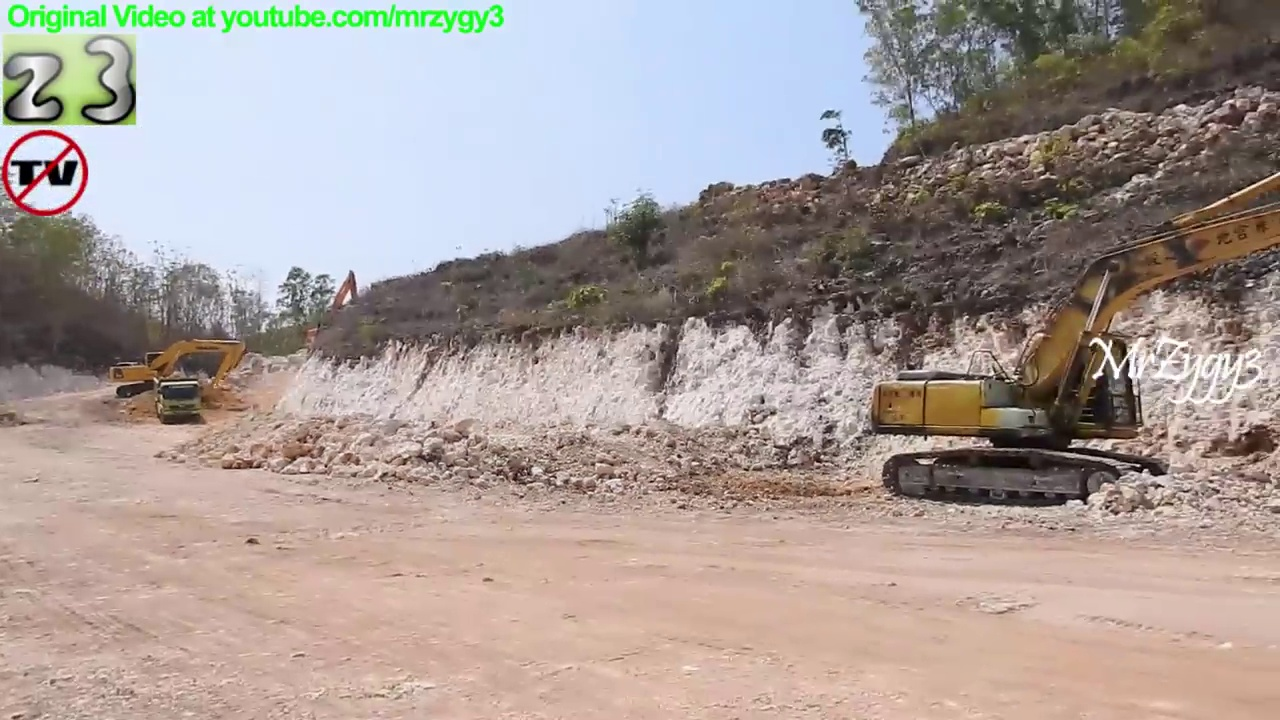excavator: (864, 169, 1280, 513), (109, 336, 248, 403), (299, 268, 368, 362)
truck: (151, 372, 205, 426)
